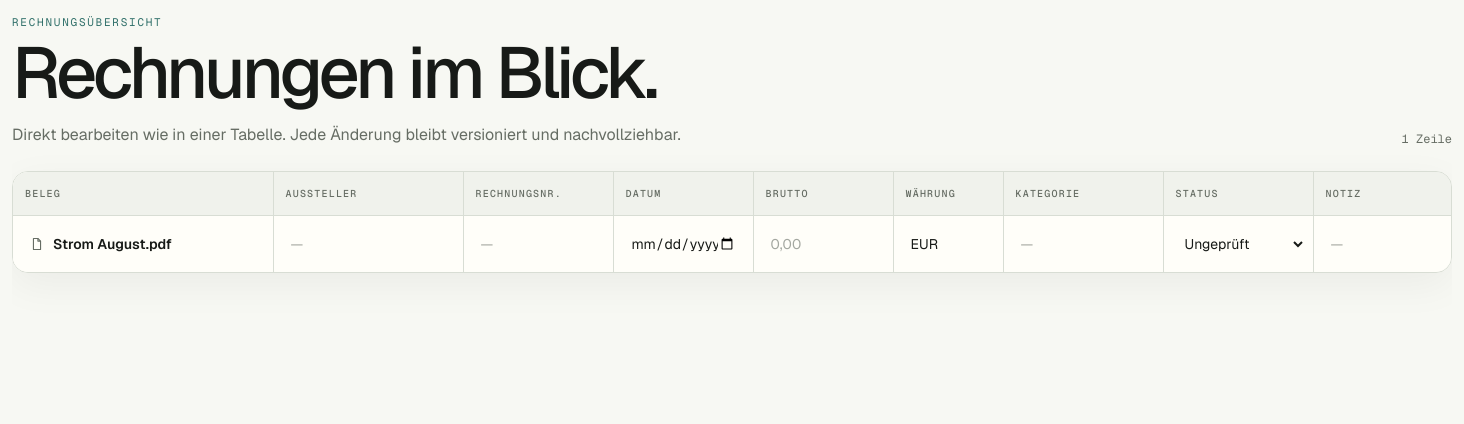
it: InvoiceWorkbook › saves edited cells as one versioned change set
Step 1. Type "Nordlicht GmbH" into the field named "Aussteller für Strom August.pdf" → (368, 244), box [280, 222, 456, 266]
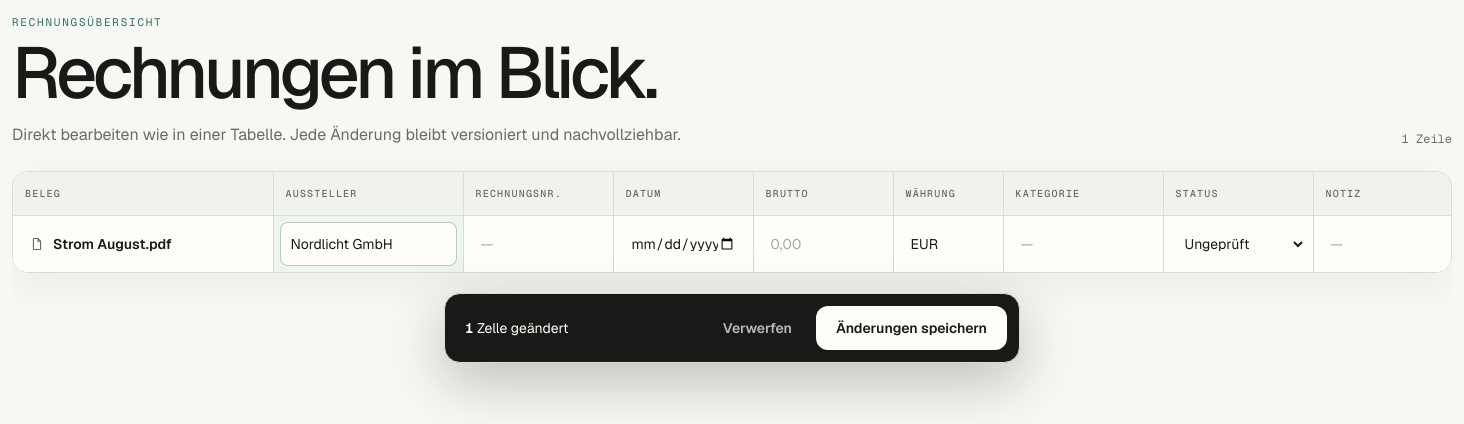
Step 2. Click the button "Änderungen speichern" → (912, 328), box [816, 306, 1007, 350]
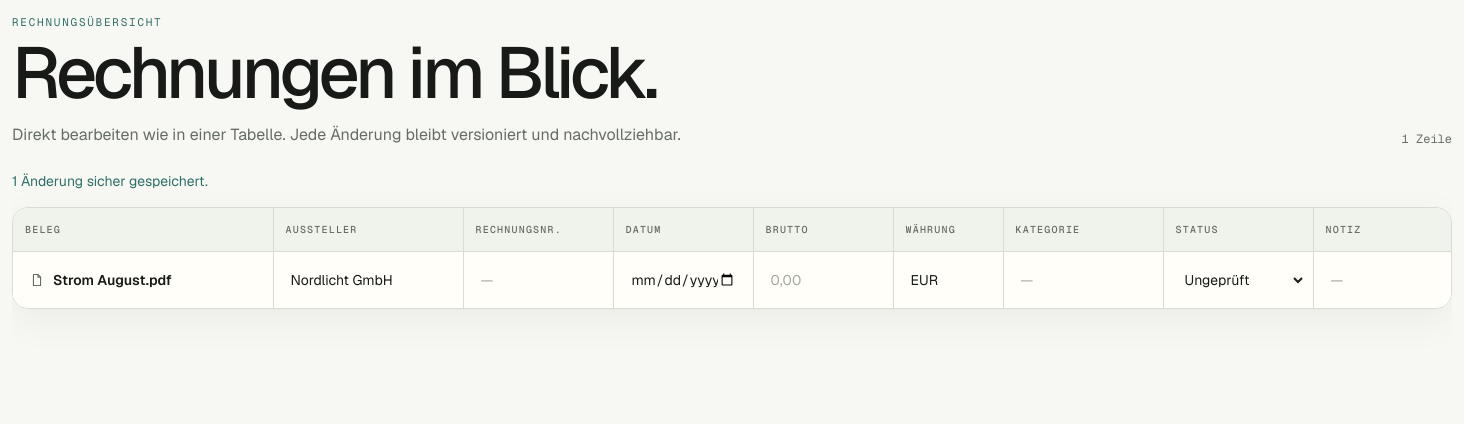
Check: the text "1 Änderung sicher gespeichert." is shown, box [12, 172, 208, 190]
Check: the button "Änderungen speichern" is gone
